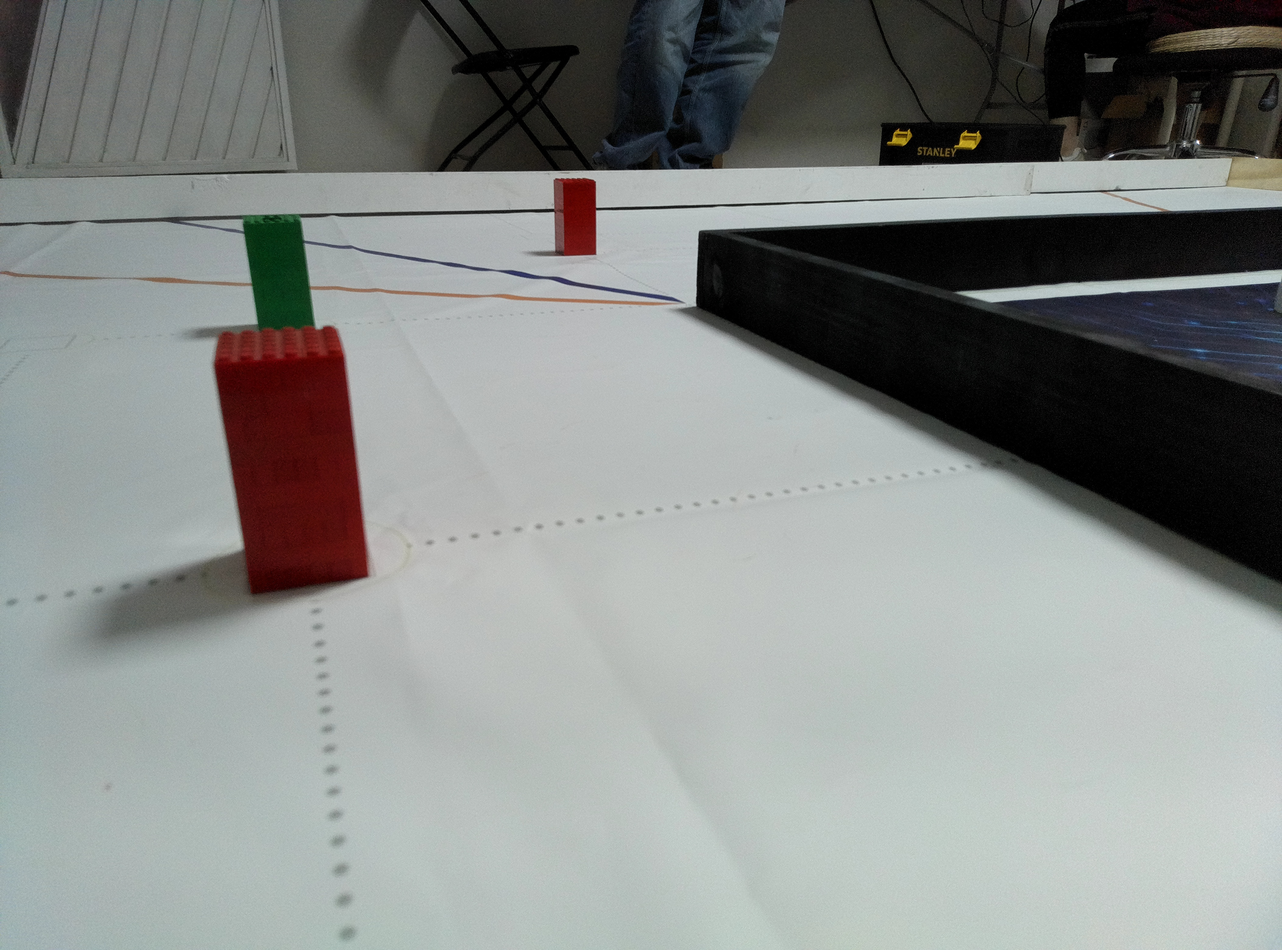greenbox: (241, 215, 316, 326)
redbox: (210, 326, 372, 599), (552, 175, 598, 259)
